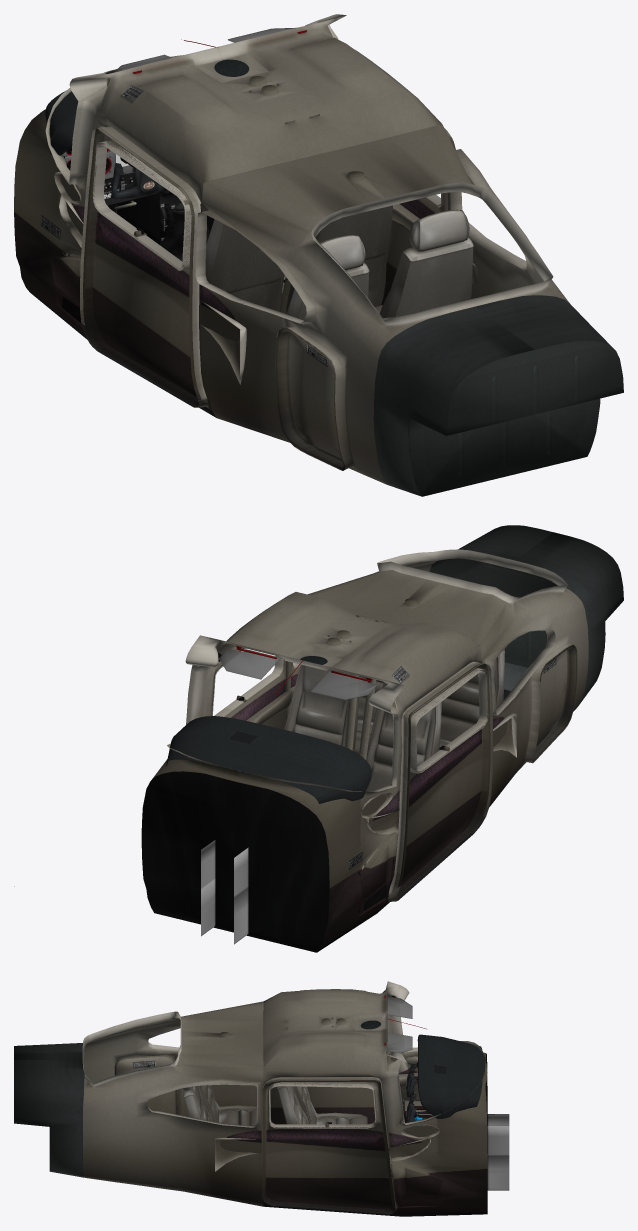
The picture shows the model from 3 angles, top to bottom: view 1: azimuth 30°, elevation 25°; view 2: azimuth 150°, elevation 25°; view 3: azimuth 270°, elevation 25°; orthographic projection. The views are drawn at different scales.
Parts seen in each view (by area): view 1: static-material-1, static-material-6, static-material-0, static-material-4; view 2: static-material-1, static-material-6, static-material-0, static-material-8; view 3: static-material-1, static-material-6, static-material-0, static-material-8, static-material-4.
Part boxes in pixels (x1,y1,x2,y2): static-material-1: (14,14,623,496); static-material-6: (205,205,473,320); static-material-0: (62,150,184,261); static-material-4: (111,160,210,244); static-material-1: (141,525,623,952); static-material-6: (284,647,505,791); static-material-0: (201,839,248,944); static-material-8: (219,648,376,699); static-material-1: (14,981,487,1216); static-material-6: (183,1085,367,1125); static-material-0: (414,1112,509,1190); static-material-8: (387,996,412,1053); static-material-4: (406,1064,424,1122).
Size of the model in its own units: 1.43 by 1.31 by 4.3.
10 materials, 6 textured.
